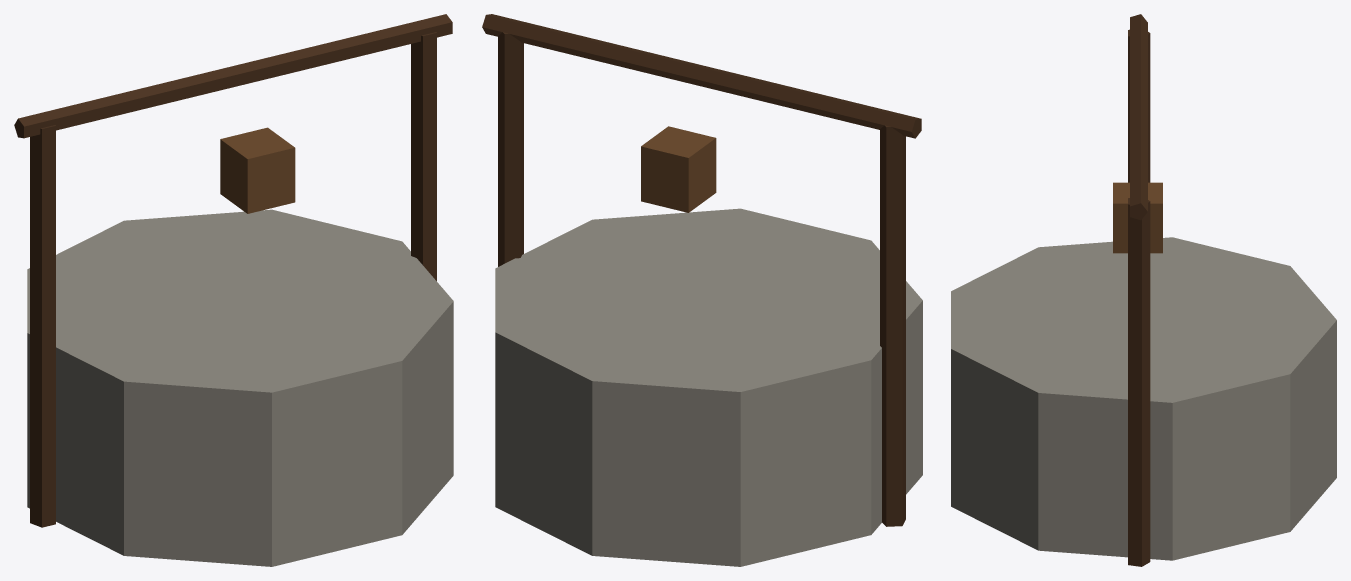
File: shack_well.glb
3 views of the same model, side by side, from view 1: azimuth 30°, elevation 25°; view 2: azimuth 150°, elevation 25°; view 3: azimuth 270°, elevation 25° (orthographic). The views are drawn at different scales.
Parts seen in each view (by area): view 1: shack_well; view 2: shack_well; view 3: shack_well.
Part boxes in pixels (bbox=[...]): shack_well: bbox=[14, 14, 453, 566]; shack_well: bbox=[482, 14, 922, 566]; shack_well: bbox=[951, 14, 1336, 566].
Size of the model in its own units: 1.8 by 1.64 by 1.55.
